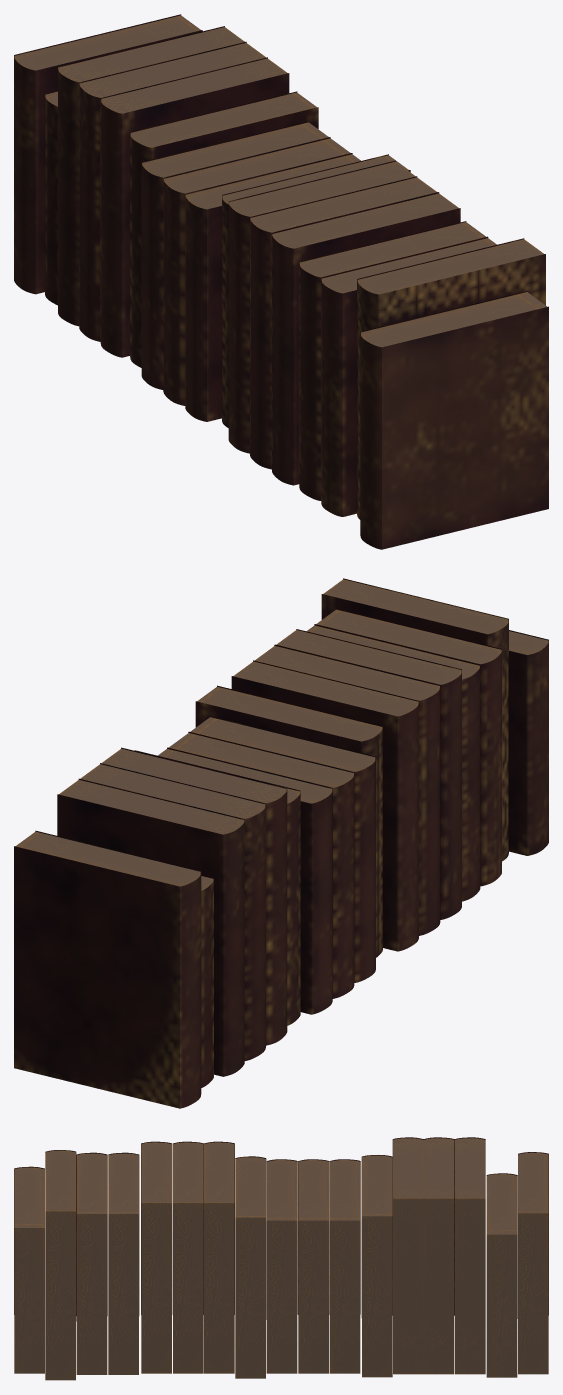
File: SM_BookPile1.fbx
3 renders of one model, top to bottom at view 1: azimuth 30°, elevation 25°; view 2: azimuth 150°, elevation 25°; view 3: azimuth 270°, elevation 25°, orthographic. The views are drawn at different scales.
Parts seen in each view (by area): view 1: SM_BookPile1_LOD0; view 2: SM_BookPile1_LOD0; view 3: SM_BookPile1_LOD0.
Part boxes in pixels (bbox=[...]): SM_BookPile1_LOD0: bbox=[14, 14, 548, 549]; SM_BookPile1_LOD0: bbox=[14, 578, 548, 1108]; SM_BookPile1_LOD0: bbox=[14, 1137, 548, 1380].
Bounding box in the file's own units: 37.38 × 125 × 45.56.
Materials: 1 (1 with a texture image).
